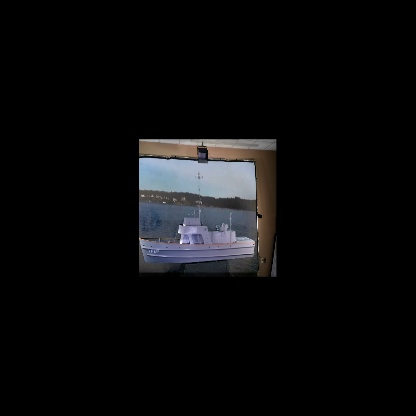YP689: (139, 166, 255, 264)
